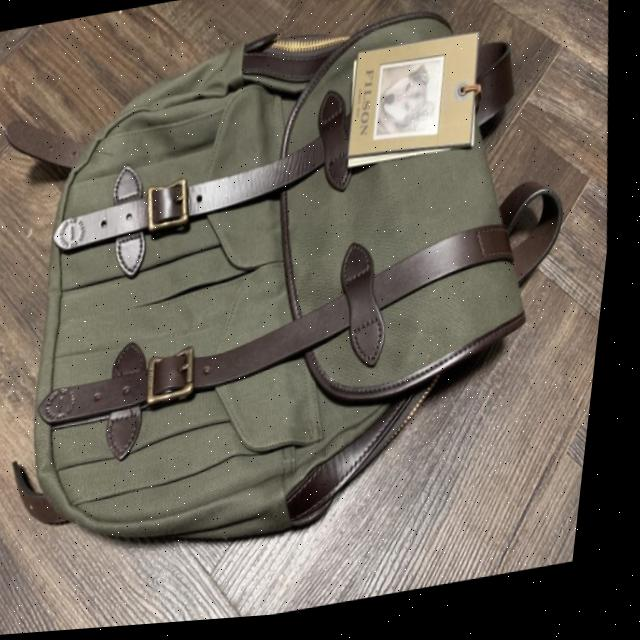backpack: (0, 0, 633, 601)
